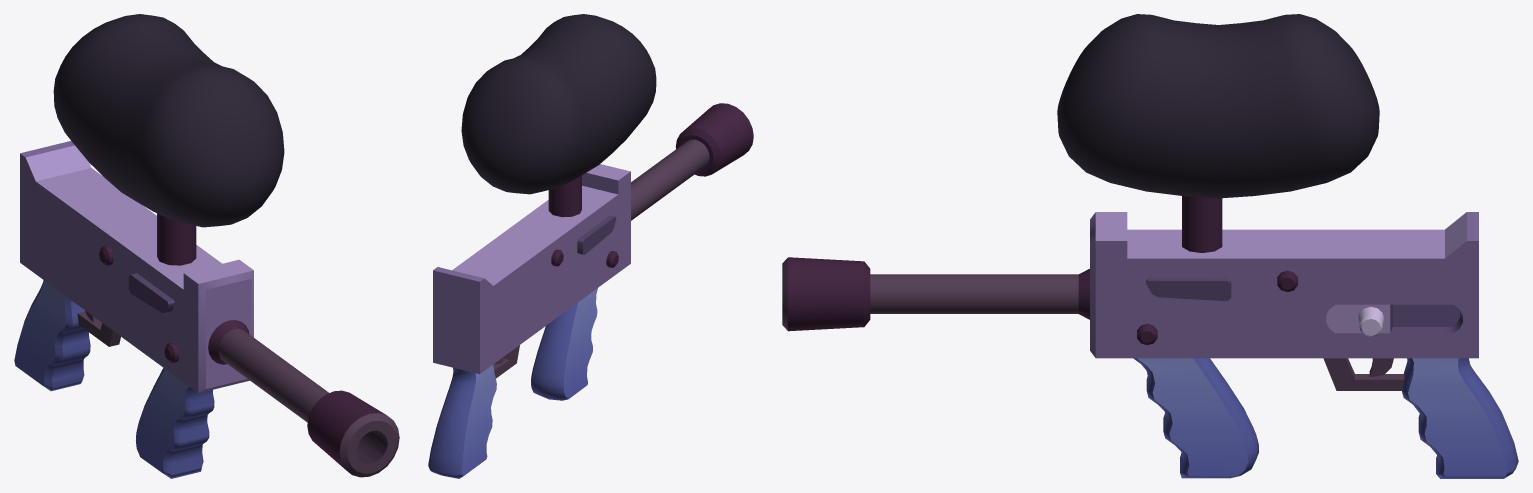
File: Weapon.fbx
The picture shows the model from 3 angles, left to right: view 1: azimuth 30°, elevation 25°; view 2: azimuth 150°, elevation 25°; view 3: azimuth 270°, elevation 25°; orthographic projection. The views are drawn at different scales.
Parts seen in each view (by area): view 1: Weapon; view 2: Weapon; view 3: Weapon.
Boxes of the visible parts, x1,y1,x2,y2 form: Weapon: (14,14,399,478); Weapon: (428,14,753,478); Weapon: (782,14,1518,478).
Size of the model in its own units: 16.97 by 50.72 by 75.23.
1 material, 1 textured.
